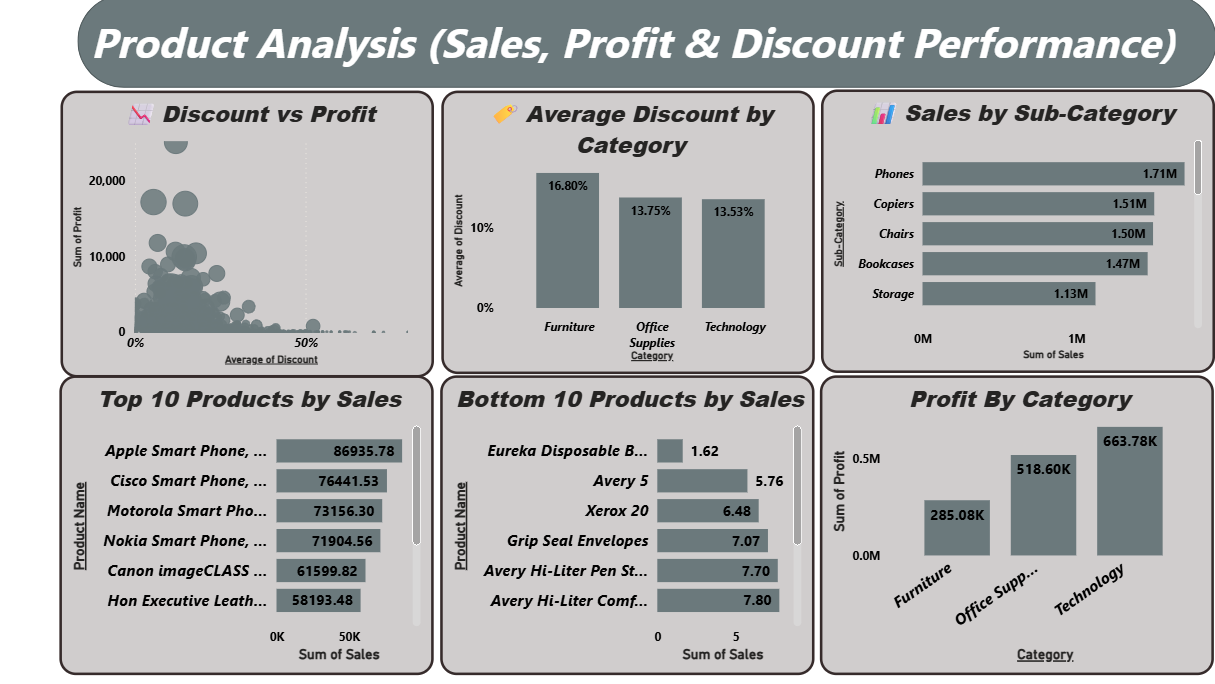

This screenshot's page, from the dashboard's own definition file:
{"tool":"powerbi","page":{"name":"Product Analysis","canvas":[1280,720],"ordinal":2},"visuals":[{"type":"barChart","title":"Top 10 Products by Sales","fields":{"Category":["product_DIM.Product Name"],"Y":["Sum(Fact_Table.Sales)"]},"box":[84.3,397.6,386.7,309.6],"z":0},{"type":"barChart","title":"Bottom 10 Products by Sales","fields":{"Category":["product_DIM.Product Name"],"Y":["Sum(Fact_Table.Sales)"]},"box":[477.1,397.6,386.7,309.6],"z":1000},{"type":"clusteredColumnChart","title":"Profit By Category","fields":{"Category":["product_DIM.Category"],"Y":["Sum(Fact_Table.Profit)"]},"box":[869.8,397.6,407.2,309.6],"z":2000},{"type":"barChart","title":"📊 Sales by Sub-Category","fields":{"Category":["product_DIM.Sub-Category"],"Y":["Sum(Fact_Table.Sales)"]},"box":[871,102.4,407.2,292.7],"z":3000},{"type":"clusteredColumnChart","title":"🏷️ Average Discount by Category","fields":{"Category":["product_DIM.Category"],"Y":["Avg(Fact_Table.Discount)"]},"box":[478.3,103.6,385.5,292.7],"z":4000},{"type":"scatterChart","title":"📉 Discount vs Profit ","fields":{"X":["Avg(Fact_Table.Discount)"],"Y":["Sum(Fact_Table.Profit)"],"Size":["Sum(Fact_Table.Sales)"],"Category":["product_DIM.Product Name"]},"box":[85.5,103.6,385.5,296.4],"z":5000},{"type":"shape","box":[102.4,4.8,1177,96.4],"z":6000}]}

Visuals, with their boxes in screenshot pixels (x1, y1, x2, y2), scaled from the page's 1280x720 canvas onto the 1215x684 screenshot:
"Top 10 Products by Sales" barChart: BBox(80, 378, 447, 672)
"Bottom 10 Products by Sales" barChart: BBox(453, 378, 820, 672)
"Profit By Category" clusteredColumnChart: BBox(826, 378, 1212, 672)
"📊 Sales by Sub-Category" barChart: BBox(827, 97, 1213, 375)
"🏷️ Average Discount by Category" clusteredColumnChart: BBox(454, 98, 820, 376)
"📉 Discount vs Profit " scatterChart: BBox(81, 98, 447, 380)
shape: BBox(97, 5, 1214, 96)
